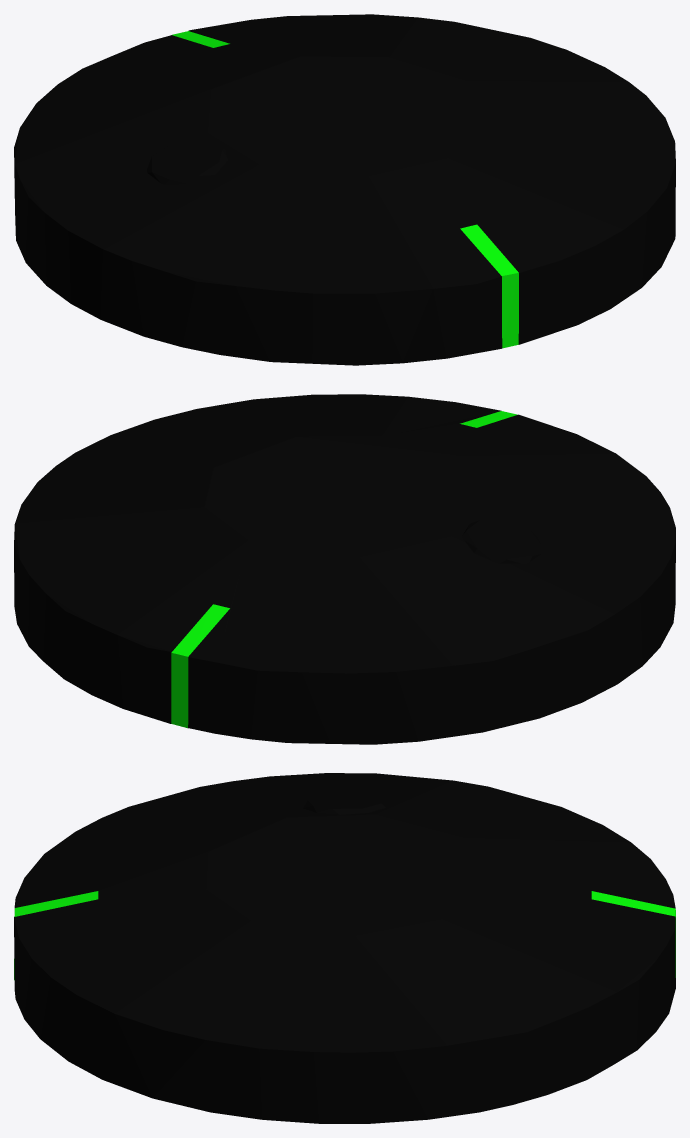
The model's file is gps_link.dae.
The picture shows the model from 3 angles, top to bottom: view 1: azimuth 30°, elevation 25°; view 2: azimuth 150°, elevation 25°; view 3: azimuth 270°, elevation 25°; orthographic projection.
Visible parts, largest first — view 1: GPS_ASSEMBLY - HERE_GPS-1 LED1-1; view 2: GPS_ASSEMBLY - HERE_GPS-1 LED1-1; view 3: GPS_ASSEMBLY - HERE_GPS-1 LED1-1.
Part boxes in pixels (box(x1,y1,x2,y2)): GPS_ASSEMBLY - HERE_GPS-1 LED1-1: box(14, 14, 675, 365); GPS_ASSEMBLY - HERE_GPS-1 LED1-1: box(14, 394, 675, 744); GPS_ASSEMBLY - HERE_GPS-1 LED1-1: box(14, 773, 675, 1123).
Size of the model in its own units: 0.0645 by 0.0646 by 0.0164.
1 material, 1 textured.
